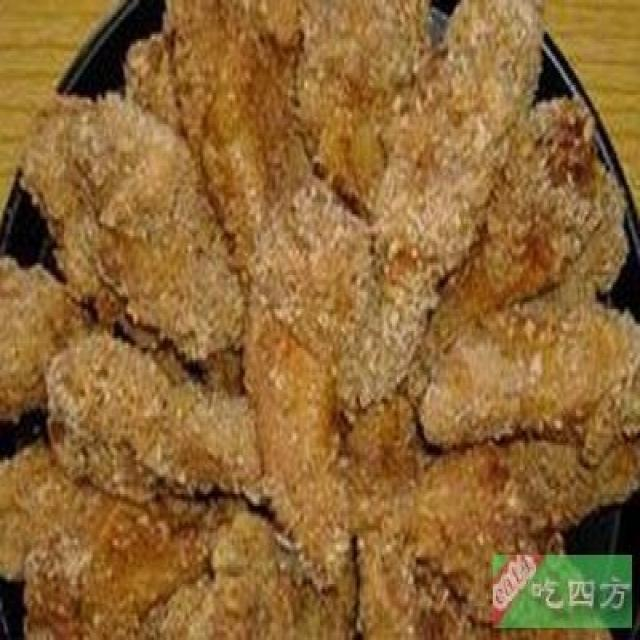Deep fried chicken wing: (40, 15, 595, 575)
